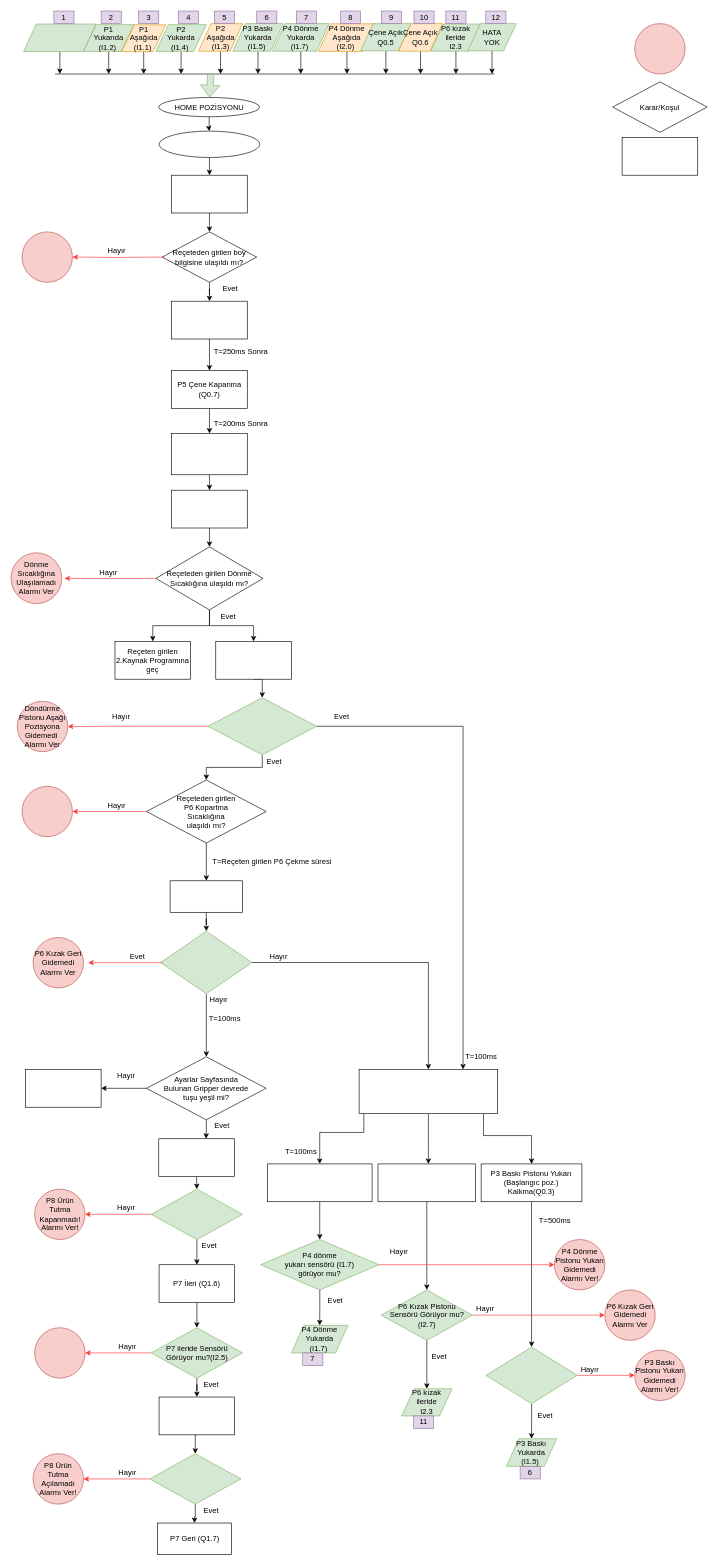
Image size: 718x1566. Some labels were removed from this diagram. The centre of each missing label's shape, as x and y in pixels:
Alarm Bilgisi: [659,48]
BAŞLA: [209,144]
Dönme Pistonu Aşağıda Sensörü Görüyor mu? (I2.0): [262,726]
Halat Yok Veya Servo Boy Değerine Ulaşamadı! Alarmı Ver: [46,256]
KAYNAK BAŞLA (Q3.2): [209,454]
Kopartma Sıcaklığına Ulaşılamadı Alarmı Ver: [46,811]
P3 Baskı Pistonu Aşağıya İnme(Q0.2): [209,320]
P3 Baskı Pistonu Yukarda Sensörü Görüyor mu?: [531,1375]
P4 Dönme Pistonu Aşağı Hareket Q0.5): [253,660]
P4 Yukarı Döndürme(Başlangıc poz.) (Q0.4): [319,1182]
P5 Çene Açma (Q0.6): [428,1091]
P6 Kızak Pistonu Geri Çekme(Q1.0): [206,896]
P6 Kızak Pistonu İleri(Başlangıc poz.) Çekme(Q1.1): [426,1182]
P6 Kızak Pistonu İleride Sensörü Görüyor mu? (I2.3): [206,962]
P7 Ürün Atma İleri Gidemedi Alarmı Ver!: [59,1352]
P8 Gripper Açık Sensörü Görüyor mu? (I2.6): [195,1478]
P8 Gripper Kapalı Sensörü Görüyor mu?(I2.7): [197,1214]
P8 Ürün Tutma Açık (Q3.0): [196,1415]
P8 Ürün Tutma Kapama(Q3.1): [196,1157]
Reçeten girilen 1.Kaynak Programına geç: [209,509]
SERVO Makina Hazırlandı(I501.1): [59,37]
Servo Sürmeye Başla: [209,194]
Taşıma ünitesinde Hareket yoktur!: [63,1088]
Yapılacak İşlem: [659,156]
